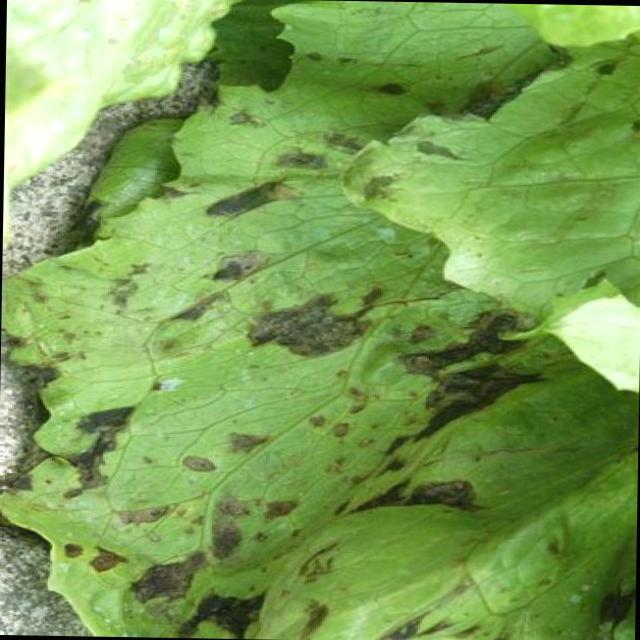Bacterial: (153, 261, 558, 530)
